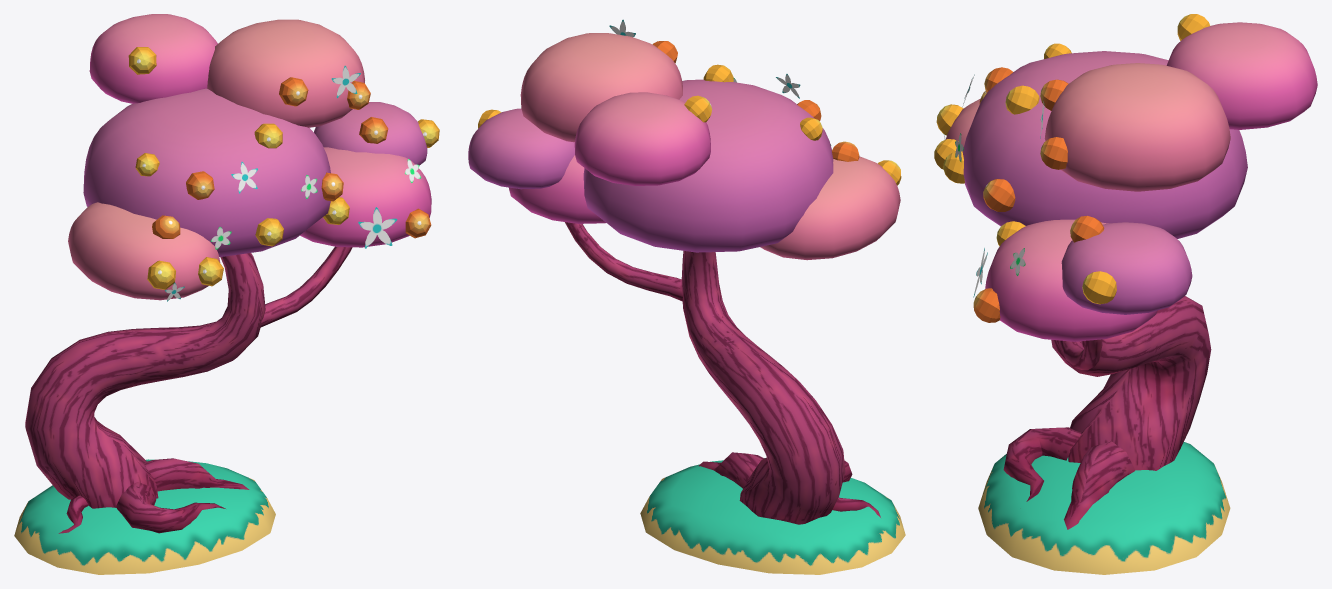
File: TreeR_002.fbx
The picture shows the model from 3 angles, left to right: view 1: azimuth 30°, elevation 25°; view 2: azimuth 150°, elevation 25°; view 3: azimuth 270°, elevation 25°; orthographic projection. The views are drawn at different scales.
Parts seen in each view (by area): view 1: tree2; view 2: tree2; view 3: tree2.
Part boxes in pixels (x1,y1,x2,y2): tree2: [14, 14, 439, 574]; tree2: [468, 19, 905, 574]; tree2: [934, 14, 1317, 574].
Bounding box in the file's own units: 10.38 × 10.77 × 7.24.
Materials: 1 (1 with a texture image).
